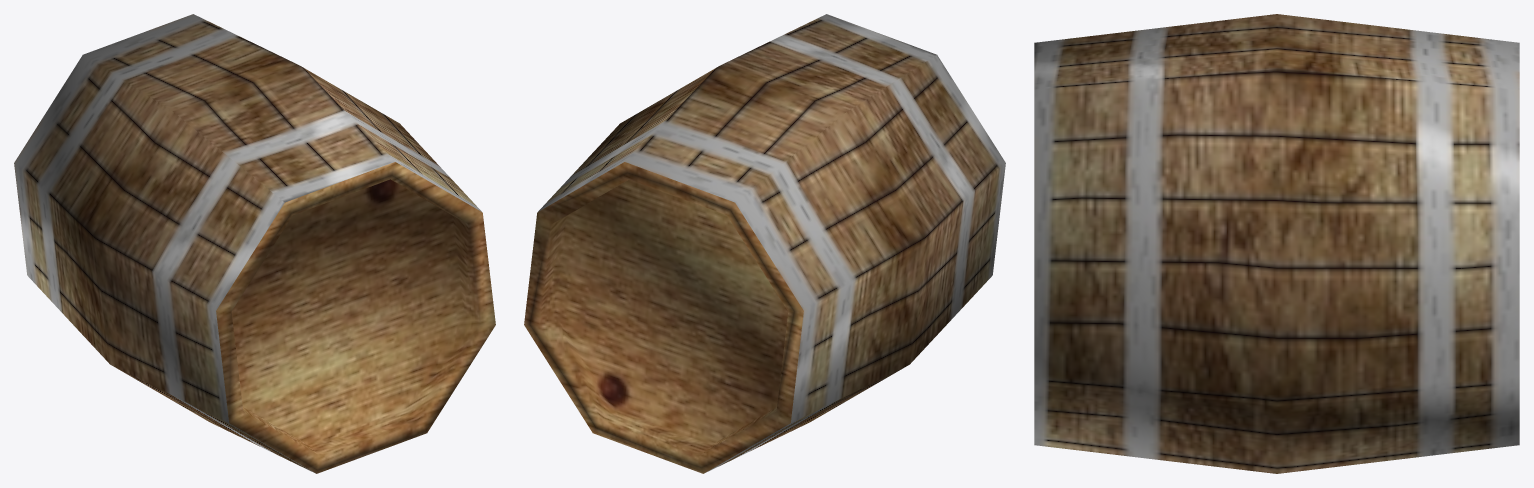
File: barrel.obj
3 renders of one model, left to right at view 1: azimuth 30°, elevation 25°; view 2: azimuth 150°, elevation 25°; view 3: azimuth 270°, elevation 25°, orthographic. The views are drawn at different scales.
Visible parts, largest first — view 1: barrel1_Cylinder; view 2: barrel1_Cylinder; view 3: barrel1_Cylinder.
Boxes of the visible parts, box(x1,y1,x2,y2) form: barrel1_Cylinder: box(14, 14, 495, 473); barrel1_Cylinder: box(524, 14, 1005, 473); barrel1_Cylinder: box(1034, 14, 1519, 473).
Bounding box in the file's own units: 3.66 × 3.66 × 4.
